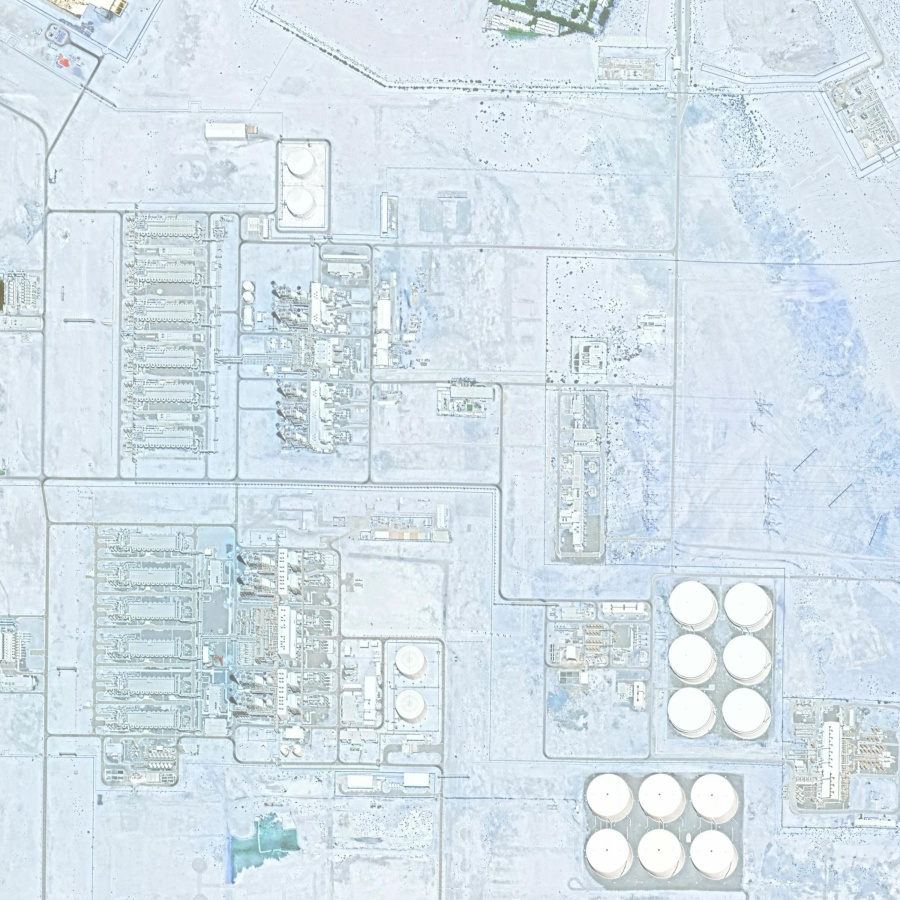PowerPlant: (118, 115, 450, 459), (79, 519, 441, 799)
